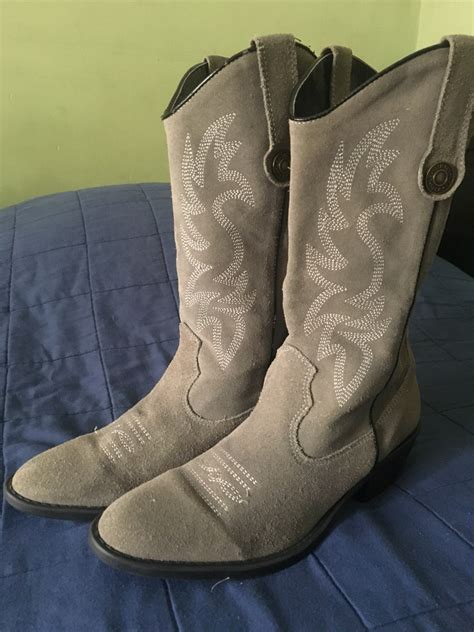gamuza: (13, 33, 474, 562)
